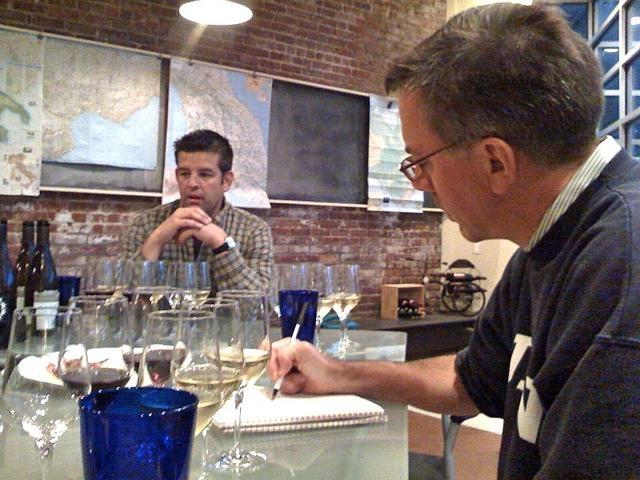bicycle: (406, 258, 486, 318)
